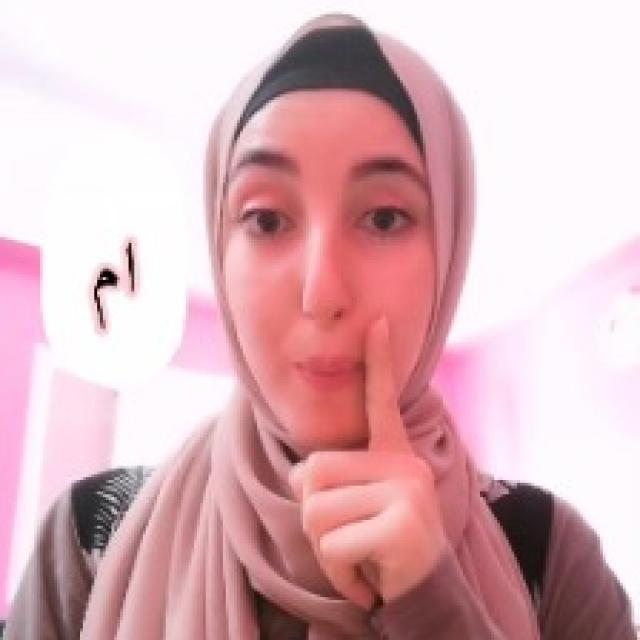mother: (283, 313, 447, 612)
